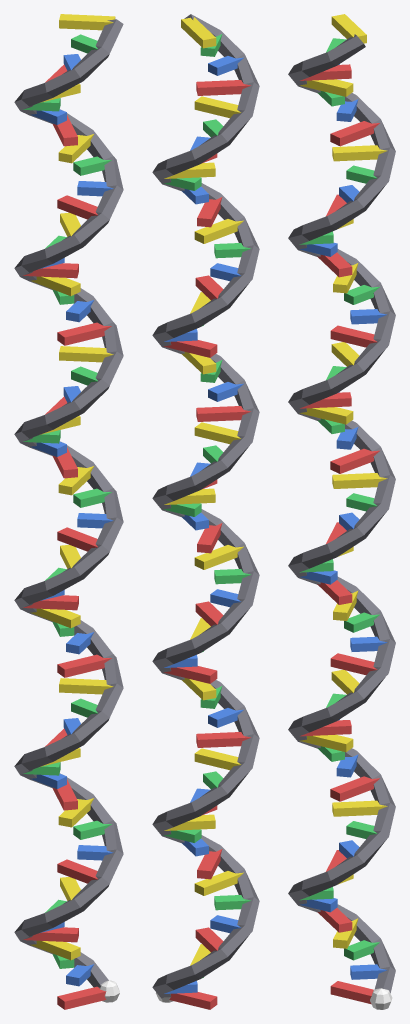
The model's file is DNA_StrandA.fbx.
3 views of the same model, side by side, from view 1: azimuth 30°, elevation 25°; view 2: azimuth 150°, elevation 25°; view 3: azimuth 330°, elevation 25° (orthographic).
Visible parts, largest first — view 1: DNA_StrandA; view 2: DNA_StrandA; view 3: DNA_StrandA.
Boxes of the visible parts, x1=… form: DNA_StrandA: x1=14, y1=14, x2=123, y2=1009; DNA_StrandA: x1=152, y1=14, x2=259, y2=1009; DNA_StrandA: x1=288, y1=14, x2=395, y2=1009.
Size of the model in its own units: 0.0615 by 0.6004 by 0.0571.
